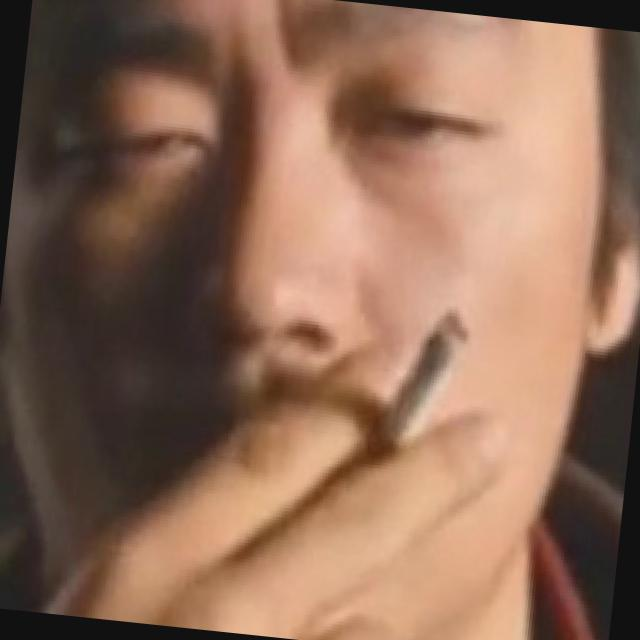smoke: (386, 292, 479, 472)
